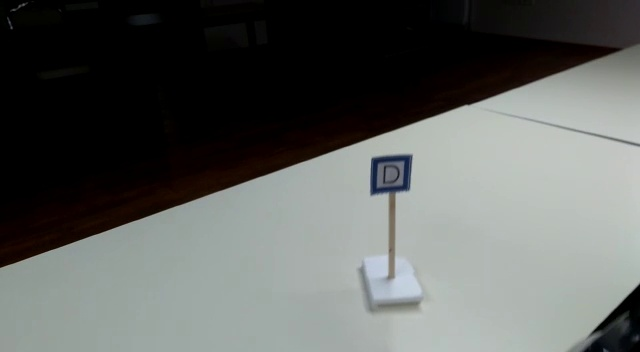durak: (369, 154, 412, 195)
